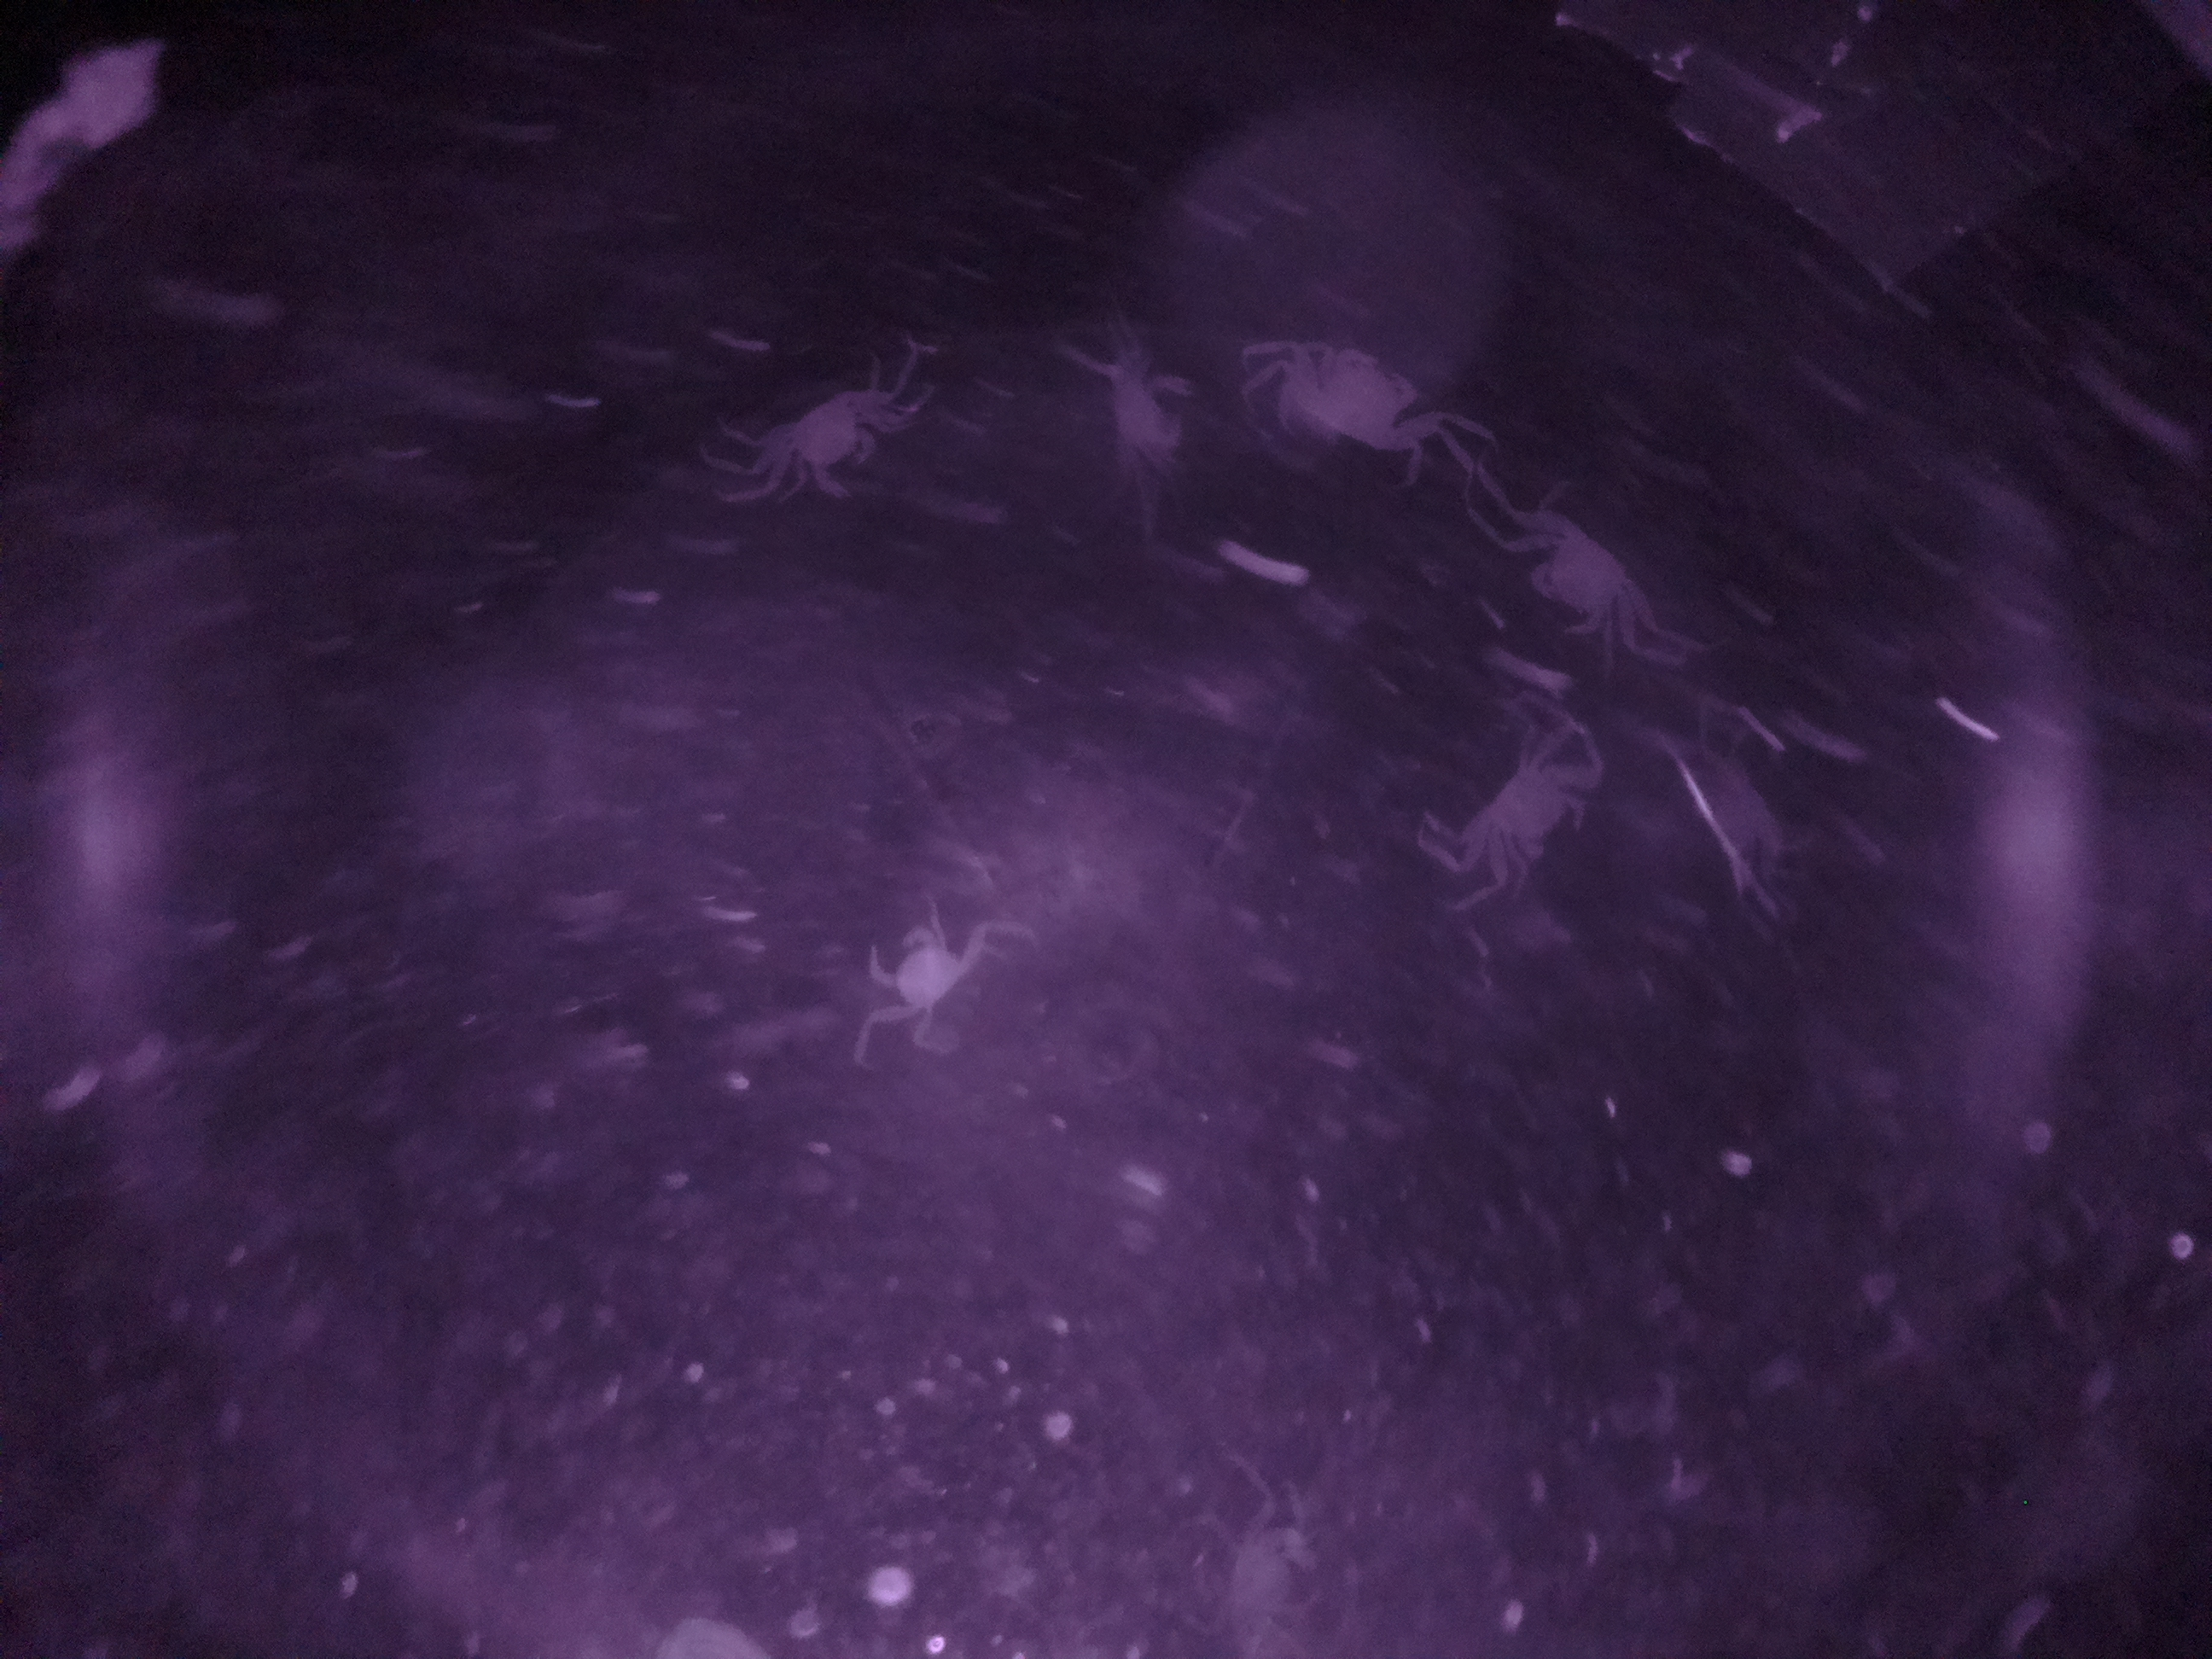Crab: (1251, 331, 1442, 469), (1512, 498, 1660, 640), (768, 369, 900, 511), (1465, 749, 1599, 885)
